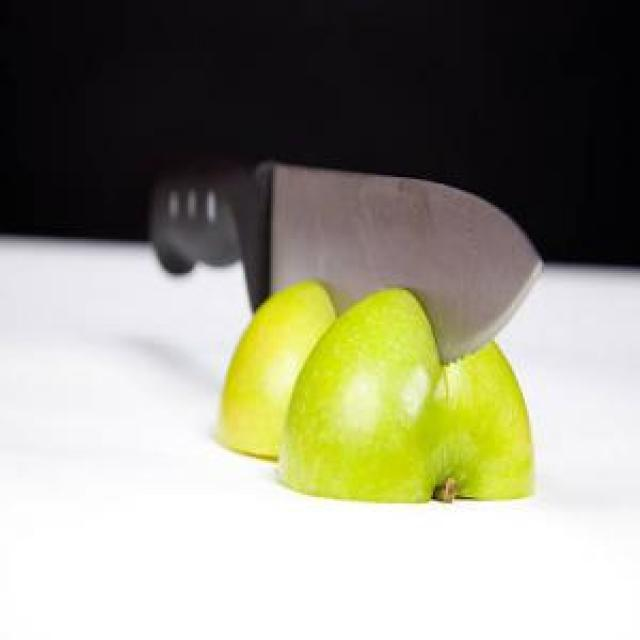knife: (149, 162, 545, 381)
